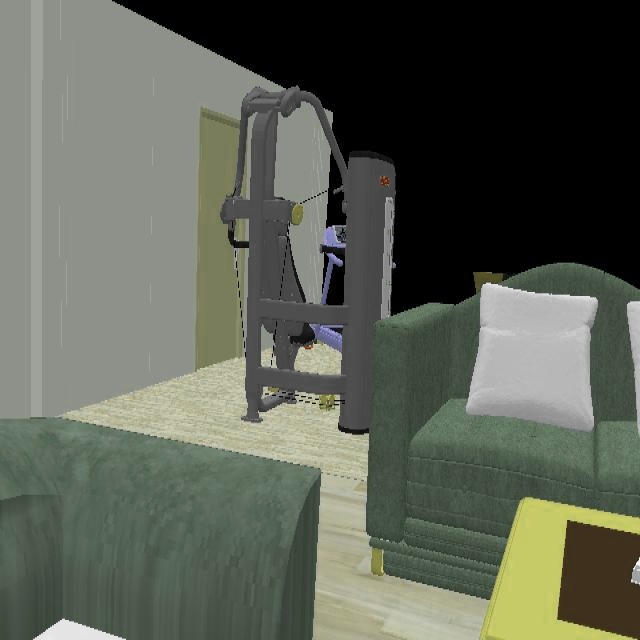pillow: (465, 283, 598, 436), (627, 301, 640, 436)
sofa: (366, 263, 640, 601), (0, 419, 323, 640)
table: (478, 497, 640, 640)
